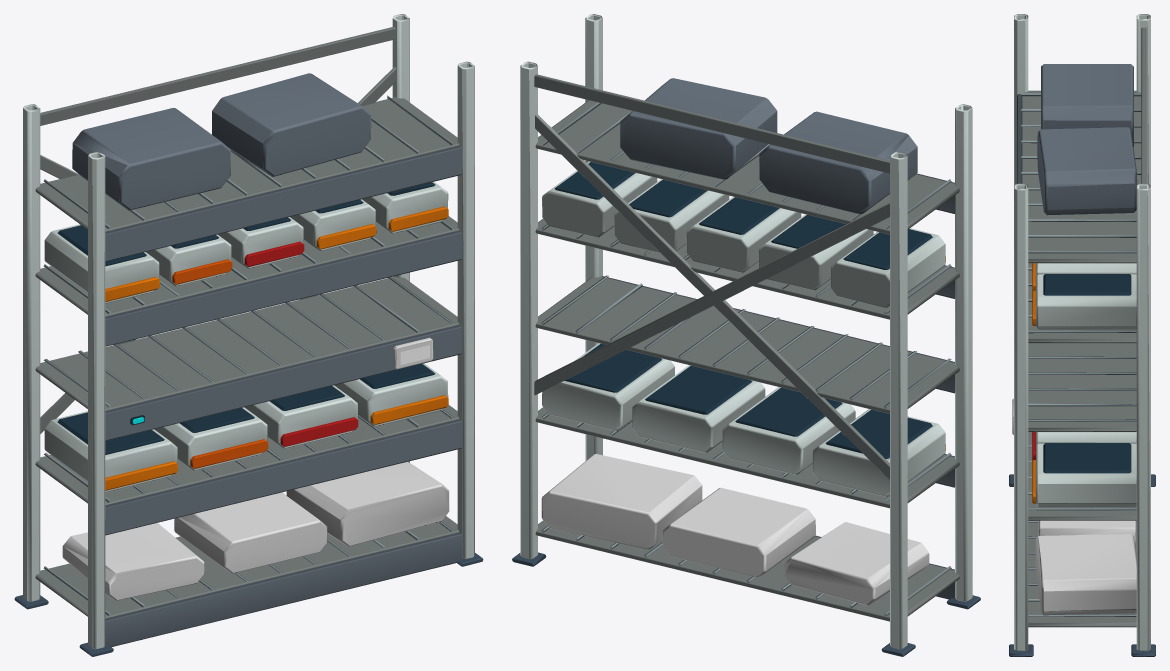
Rendered from rayonnage.glb.
The picture shows the model from 3 angles, left to right: view 1: azimuth 30°, elevation 25°; view 2: azimuth 150°, elevation 25°; view 3: azimuth 270°, elevation 25°; orthographic projection. The views are drawn at different scales.
Visible parts, largest first — view 1: corps__bleu_fonce, corps__gris_clair3, corps__gris_clair, corps__gris_clair4, corps__gris_clair2, corps__bleu_nuit2, corps__orange, corps__orange2, corps__rouge, corps__bleu_nuit; view 2: corps__gris_clair, corps__gris_clair3, corps__gris_clair4, corps__bleu_fonce, corps__bleu_nuit2, corps__gris_clair2, corps__bleu_nuit; view 3: corps__gris_clair, corps__gris_clair3, corps__bleu_fonce, corps__gris_clair4, corps__bleu_nuit2, corps__gris_clair2, corps__bleu_nuit, corps__orange.
Boxes of the visible parts, left/top/right/bottom form: corps__bleu_fonce: left=72, top=73, right=462, bottom=647; corps__gris_clair3: left=35, top=26, right=459, bottom=618; corps__gris_clair: left=23, top=14, right=474, bottom=649; corps__gris_clair4: left=62, top=337, right=449, bottom=600; corps__gris_clair2: left=43, top=95, right=453, bottom=615; corps__bleu_nuit2: left=57, top=182, right=435, bottom=454; corps__orange: left=105, top=206, right=448, bottom=490; corps__orange2: left=172, top=259, right=268, bottom=468; corps__rouge: left=244, top=241, right=358, bottom=446; corps__bleu_nuit: left=14, top=553, right=483, bottom=656; corps__gris_clair: left=520, top=14, right=972, bottom=649; corps__gris_clair3: left=534, top=74, right=959, bottom=621; corps__gris_clair4: left=541, top=454, right=929, bottom=605; corps__bleu_fonce: left=602, top=78, right=955, bottom=599; corps__bleu_nuit2: left=555, top=162, right=932, bottom=458; corps__gris_clair2: left=541, top=102, right=951, bottom=615; corps__bleu_nuit: left=512, top=552, right=980, bottom=656; corps__gris_clair: left=1014, top=14, right=1150, bottom=651; corps__gris_clair3: left=1021, top=27, right=1146, bottom=627; corps__bleu_fonce: left=1017, top=64, right=1137, bottom=215; corps__gris_clair4: left=1012, top=398, right=1136, bottom=615; corps__bleu_nuit2: left=1043, top=274, right=1131, bottom=473; corps__gris_clair2: left=1021, top=93, right=1141, bottom=616; corps__bleu_nuit: left=1009, top=474, right=1155, bottom=656; corps__orange: left=1032, top=263, right=1036, bottom=503.
Bounding box in the file's own units: 1.99 × 2.4 × 0.6859.
